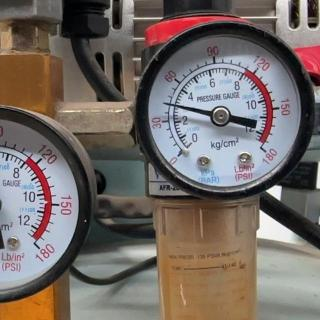gauge: (134, 12, 319, 206), (1, 101, 98, 311), (168, 143, 195, 167), (209, 105, 231, 127), (28, 236, 48, 258), (254, 139, 274, 161), (159, 99, 169, 107)
